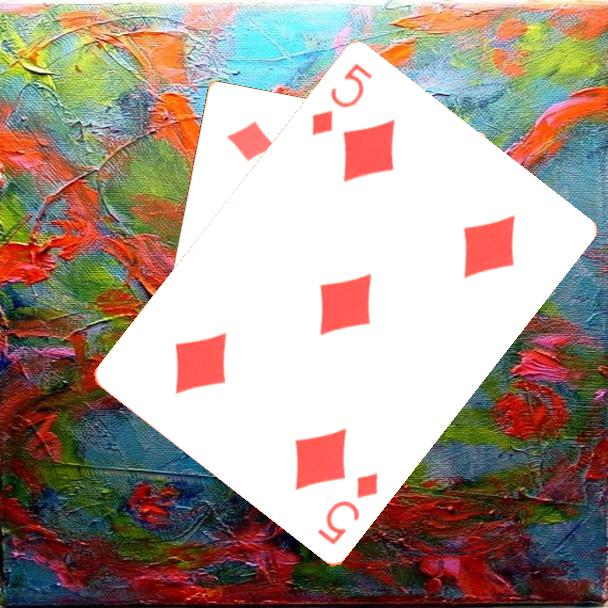d05: (313, 469, 382, 549), (308, 60, 376, 140)
